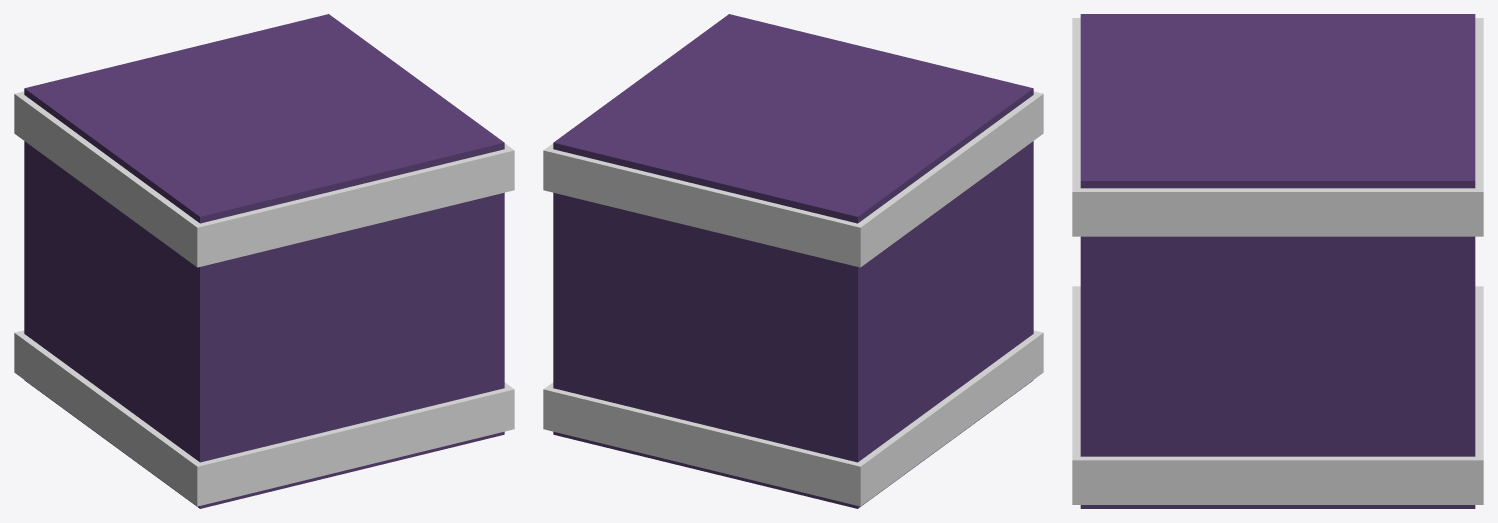
Rendered from corrupt_crate.glb.
3 views of the same model, side by side, from view 1: azimuth 30°, elevation 25°; view 2: azimuth 150°, elevation 25°; view 3: azimuth 270°, elevation 25° (orthographic). The views are drawn at different scales.
Visible parts, largest first — view 1: corrupt_crate_v0; view 2: corrupt_crate_v0; view 3: corrupt_crate_v0.
Boxes of the visible parts, bbox=[...] form: corrupt_crate_v0: bbox=[14, 14, 514, 508]; corrupt_crate_v0: bbox=[543, 14, 1043, 508]; corrupt_crate_v0: bbox=[1072, 14, 1483, 508].
Bounding box in the file's own units: 0.25 × 0.22 × 0.25.
